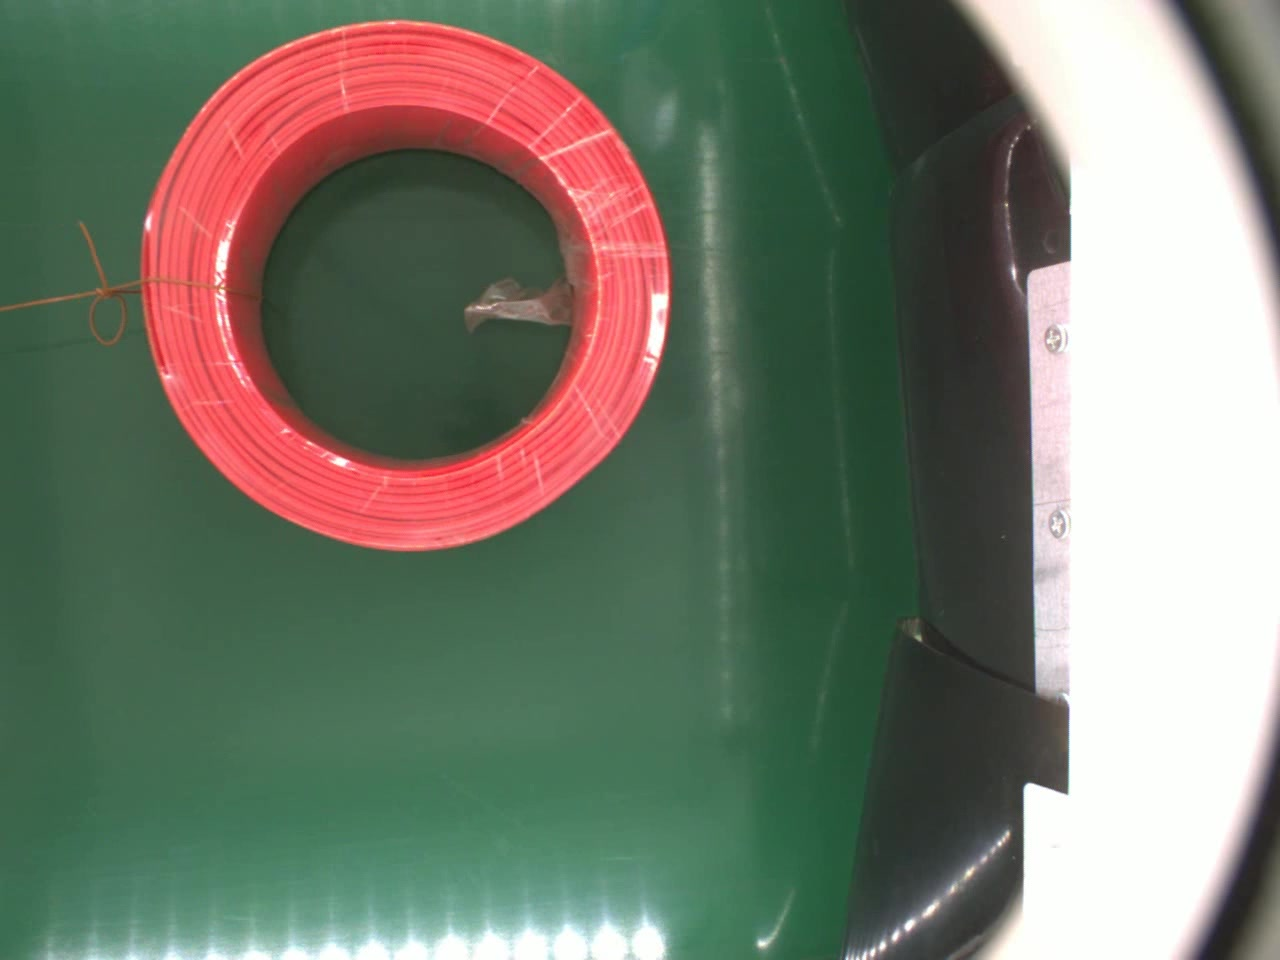red: (139, 15, 671, 559)
